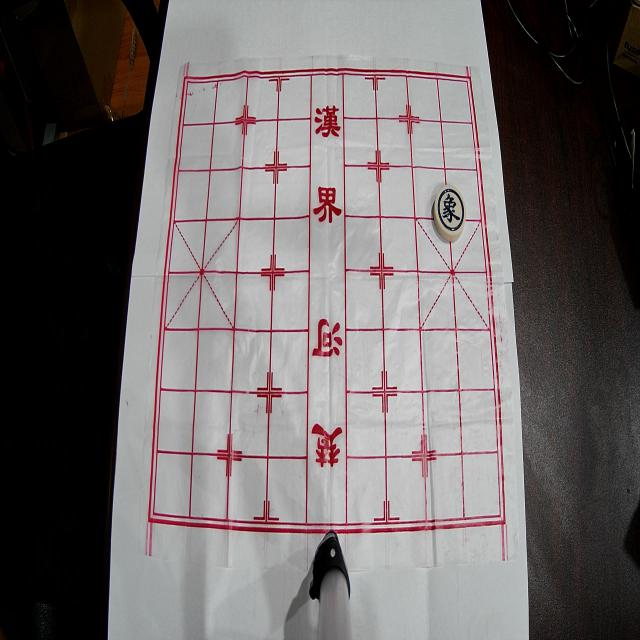black-elephant: (434, 184, 466, 242)
